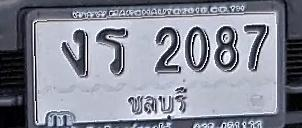0: (186, 26, 209, 72)
2: (155, 26, 181, 73)
7: (244, 24, 268, 71)
8: (214, 25, 238, 71)
A07: (61, 29, 88, 77)
A35: (96, 28, 128, 76)
CBI: (125, 85, 187, 120)
